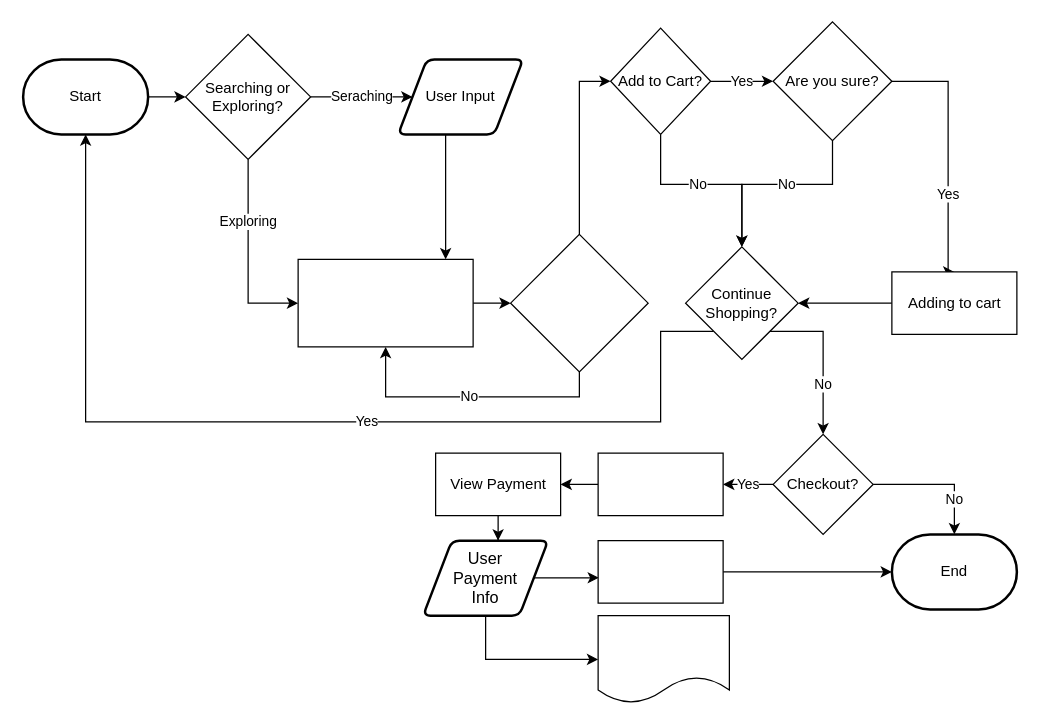
This 1039x725 diagram has some shape labels left out. Each missing label, with the box of its shape:
Confirmation Email: (597, 614, 729, 703)
Looking over products: (297, 258, 473, 347)
Order Confirmation: (597, 539, 723, 603)
View Cart: (597, 452, 723, 516)
View Specific Product?: (509, 233, 648, 372)
